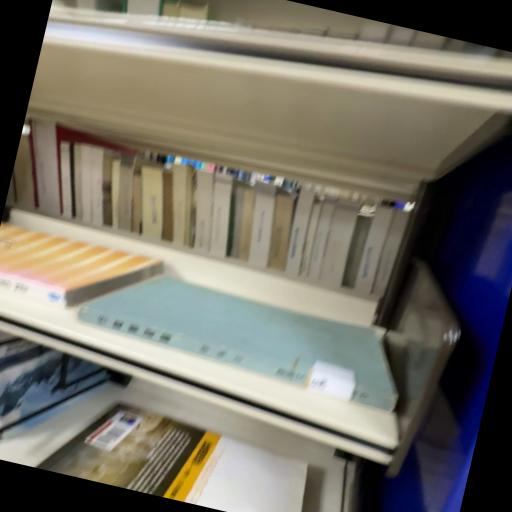flat: (79, 276, 397, 413), (37, 405, 307, 512), (1, 224, 164, 309)
